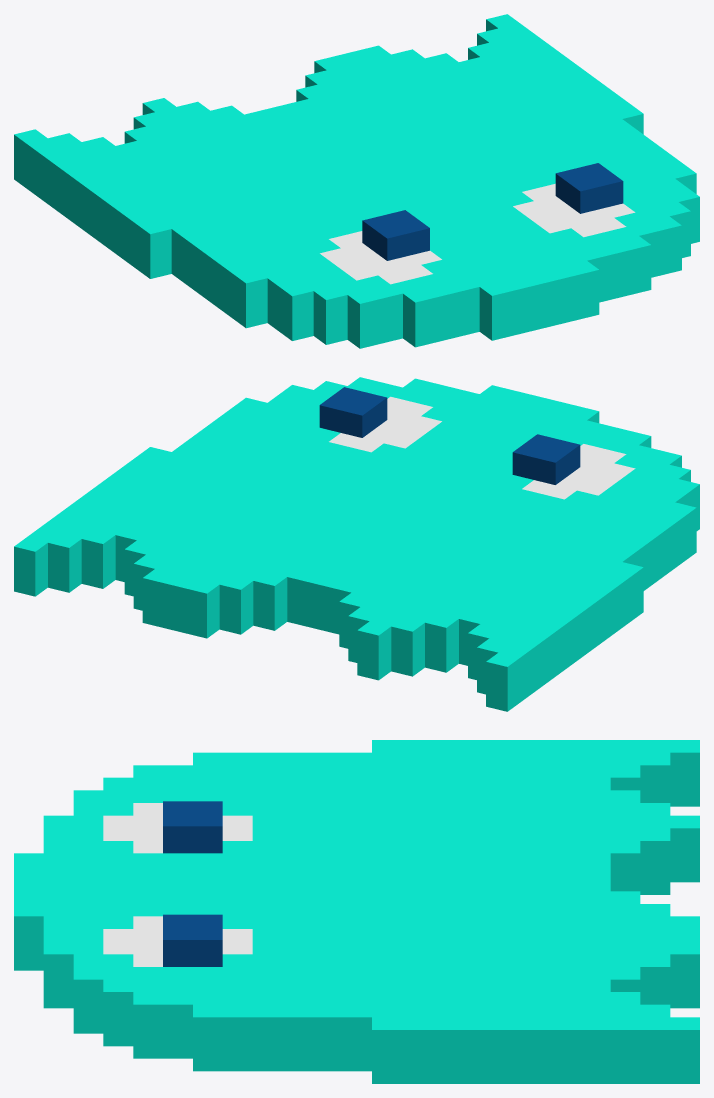
Rendered from Ghost Left.obj.
3 views of the same model, one above another, from view 1: azimuth 30°, elevation 25°; view 2: azimuth 150°, elevation 25°; view 3: azimuth 270°, elevation 25° (orthographic). The views are drawn at different scales.
Size of the model in its own units: 23 by 3 by 23.
1 material, 1 textured.
